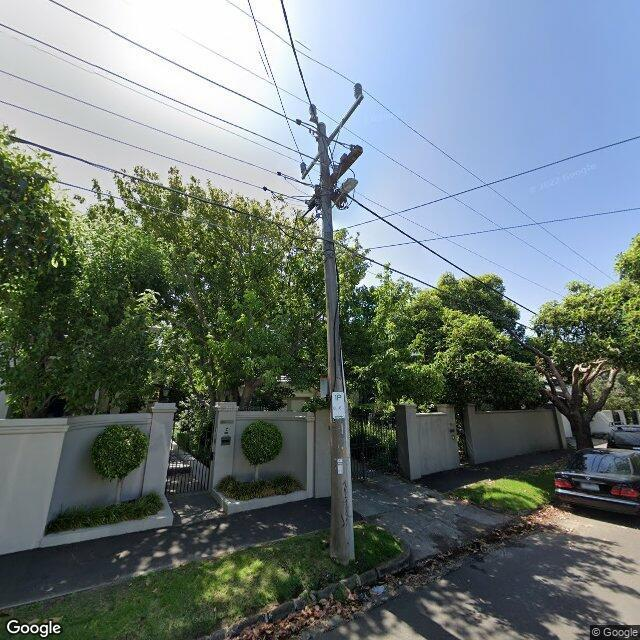HV-transmission: (300, 82, 363, 175)
crossarm: (302, 94, 363, 178), (308, 145, 363, 209)
streetlight: (329, 178, 358, 212)
timber-pole: (318, 122, 354, 566)
